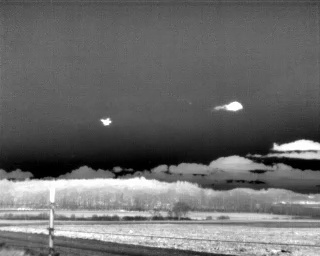DRONE: (96, 113, 116, 130)
